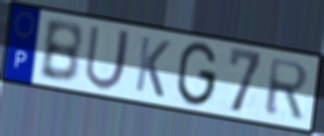7: (227, 45, 264, 117)
B: (37, 19, 85, 86)
G: (174, 40, 220, 109)
K: (132, 33, 173, 100)
R: (263, 57, 312, 122)
U: (82, 23, 133, 92)
